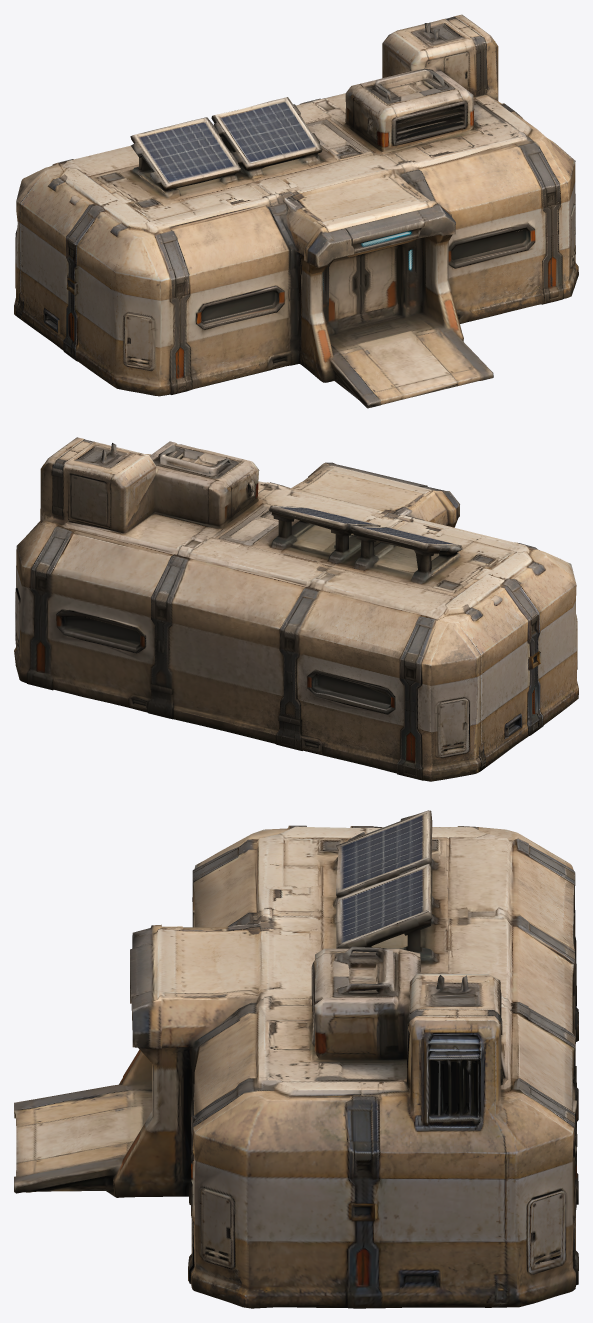
Rendered from dune-building-4.glb.
3 renders of one model, top to bottom at view 1: azimuth 30°, elevation 25°; view 2: azimuth 150°, elevation 25°; view 3: azimuth 270°, elevation 25°, orthographic. The views are drawn at different scales.
Visible parts, largest first — view 1: tripo_node_8ddbdf21-cb8d-4b78-8ec4-a66b84c28abd; view 2: tripo_node_8ddbdf21-cb8d-4b78-8ec4-a66b84c28abd; view 3: tripo_node_8ddbdf21-cb8d-4b78-8ec4-a66b84c28abd.
Boxes of the visible parts, x1,y1,x2,y2 form: tripo_node_8ddbdf21-cb8d-4b78-8ec4-a66b84c28abd: (14,14,578,408); tripo_node_8ddbdf21-cb8d-4b78-8ec4-a66b84c28abd: (14,437,578,781); tripo_node_8ddbdf21-cb8d-4b78-8ec4-a66b84c28abd: (14,810,578,1308).
Bounding box in the file's own units: 16 × 6.96 × 12.41.
1 material, 1 textured.
